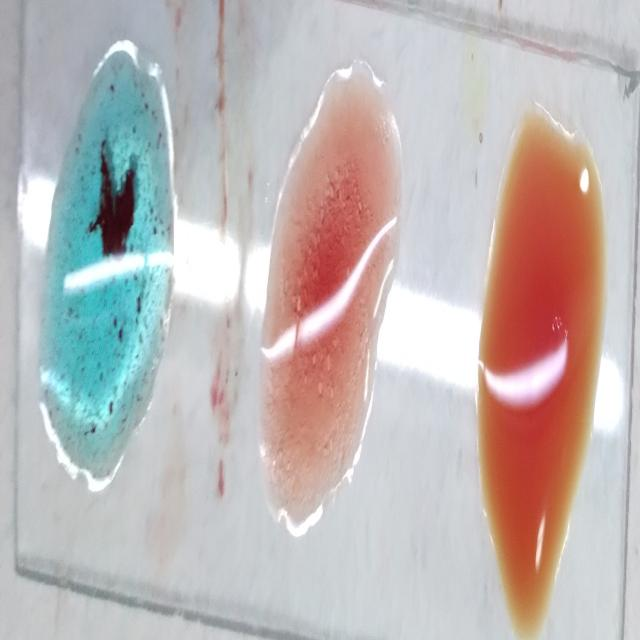A: (39, 55, 176, 472)
D: (271, 77, 391, 506)
